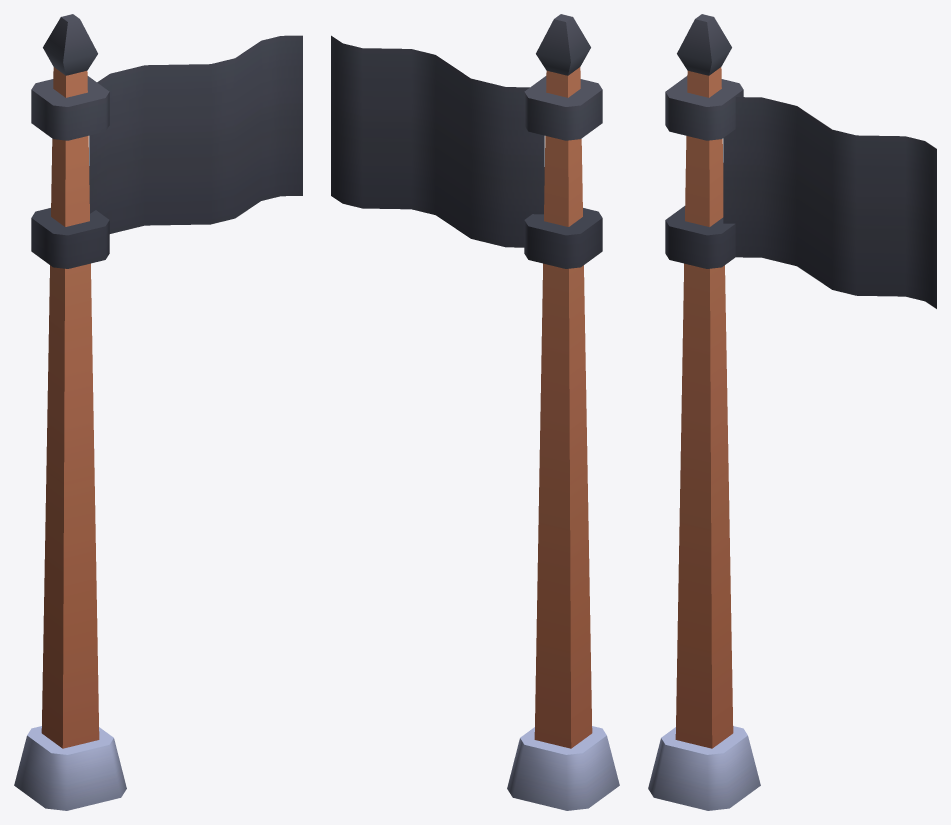
File: flag-pirate-high.glb
The picture shows the model from 3 angles, left to right: view 1: azimuth 30°, elevation 25°; view 2: azimuth 150°, elevation 25°; view 3: azimuth 330°, elevation 25°; orthographic projection.
Parts seen in each view (by area): view 1: flag-pirate-high; view 2: flag-pirate-high; view 3: flag-pirate-high.
Part boxes in pixels (x1,y1,x2,y2): flag-pirate-high: (14,14,302,810); flag-pirate-high: (331,14,619,810); flag-pirate-high: (648,14,936,810).
Bounding box in the file's own units: 1.34 × 3.6 × 0.3989.
Materials: 1 (1 with a texture image).
